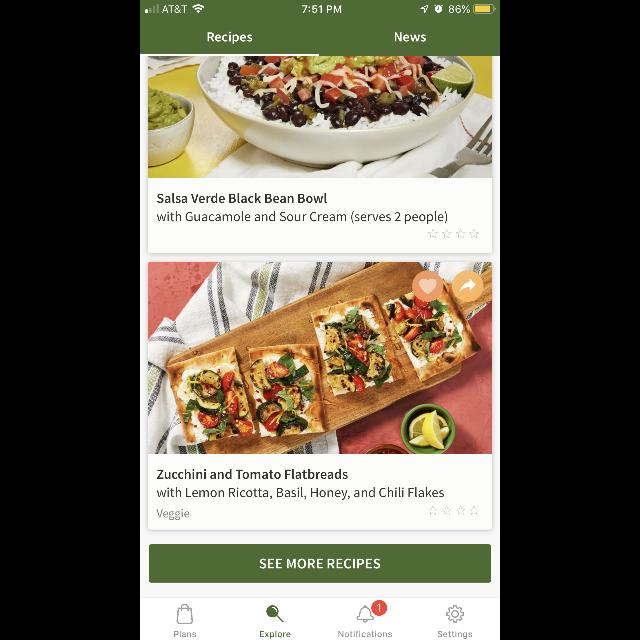icon: (412, 270, 443, 302), (452, 270, 483, 302), (357, 600, 388, 622), (428, 505, 479, 515), (428, 229, 478, 239), (176, 604, 194, 624), (446, 606, 464, 622), (266, 606, 284, 622)
image: (148, 262, 492, 454), (148, 56, 492, 178)
text: (157, 212, 447, 224), (158, 488, 444, 500), (157, 468, 347, 478), (157, 193, 327, 203), (208, 32, 252, 44), (338, 630, 392, 638), (156, 510, 190, 520), (394, 32, 426, 42), (438, 631, 472, 639), (260, 631, 290, 639), (174, 630, 196, 638)
textbutton: (149, 545, 491, 583)
uppertaskbar: (140, 0, 500, 14)
